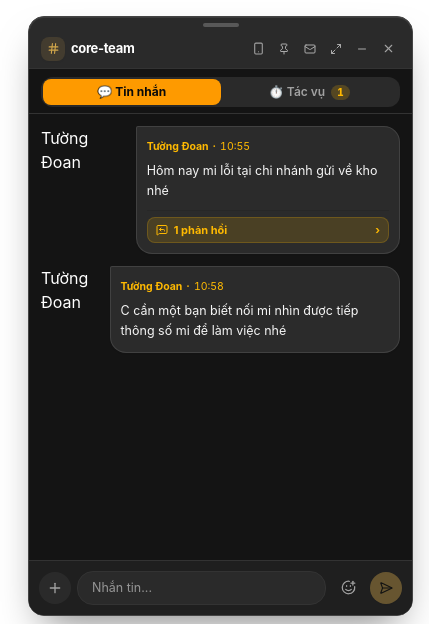
MosChatDockedWindows iPhone Refactor › pushes into thread view with slide transition and back button
Click the text "1 phản hồi": (201, 230) [174,222,227,238]
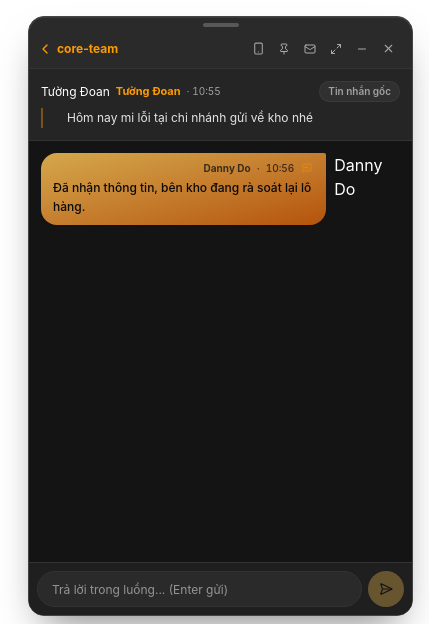
Check: the text "Tin nhắn gốc" is shown, box [319,81,400,102]
Check: the text "Đã nhận thông tin, bên kho đang rà soát lại lô hàng." is shown, box [53,180,311,214]
Check: the field with placeholder "Trả lời trong luồng... (Enter gửi)" is shown, box [37,571,362,607]
// Click back chevron button
Click the button "core-team": (81, 48) [37,36,124,62]
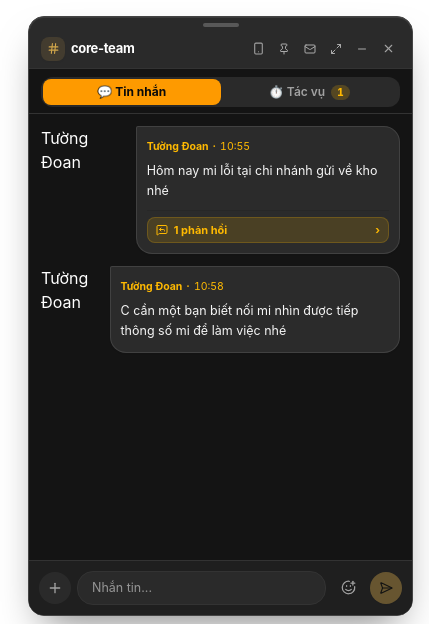
Check: the text "💬 Tin nhắn" is shown, box [97,83,166,101]
Check: the text "⏱️ Tác vụ" is shown, box [269,83,325,101]
